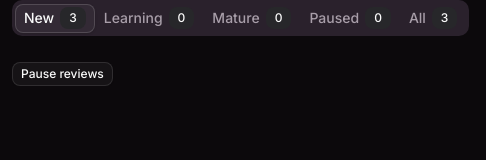
Test: ListRow › removes the row from the page when the status write succeeds
Click the button "Pause reviews" at [62, 74], box [12, 62, 113, 86]
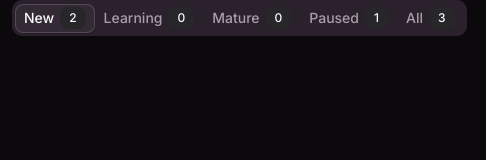
Result: the tab "New 2" is shown at [15, 4, 95, 32]
